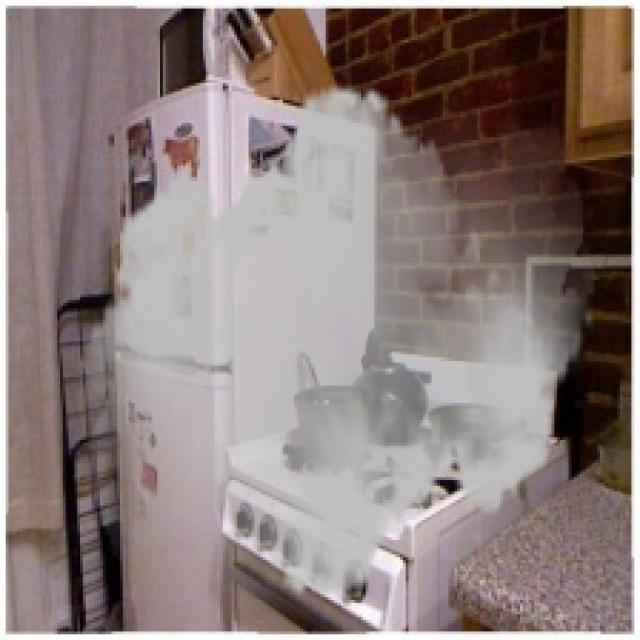Smoke: (77, 63, 594, 620)
